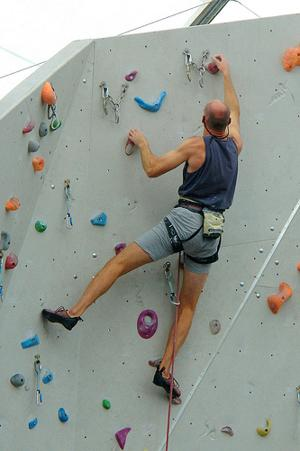person: (42, 55, 244, 400)
